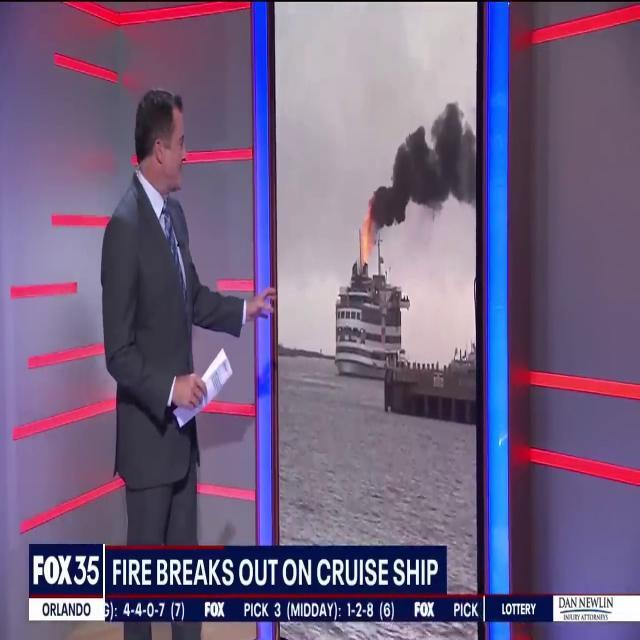Fire: (358, 206, 376, 272)
Smoke: (372, 87, 479, 245)
